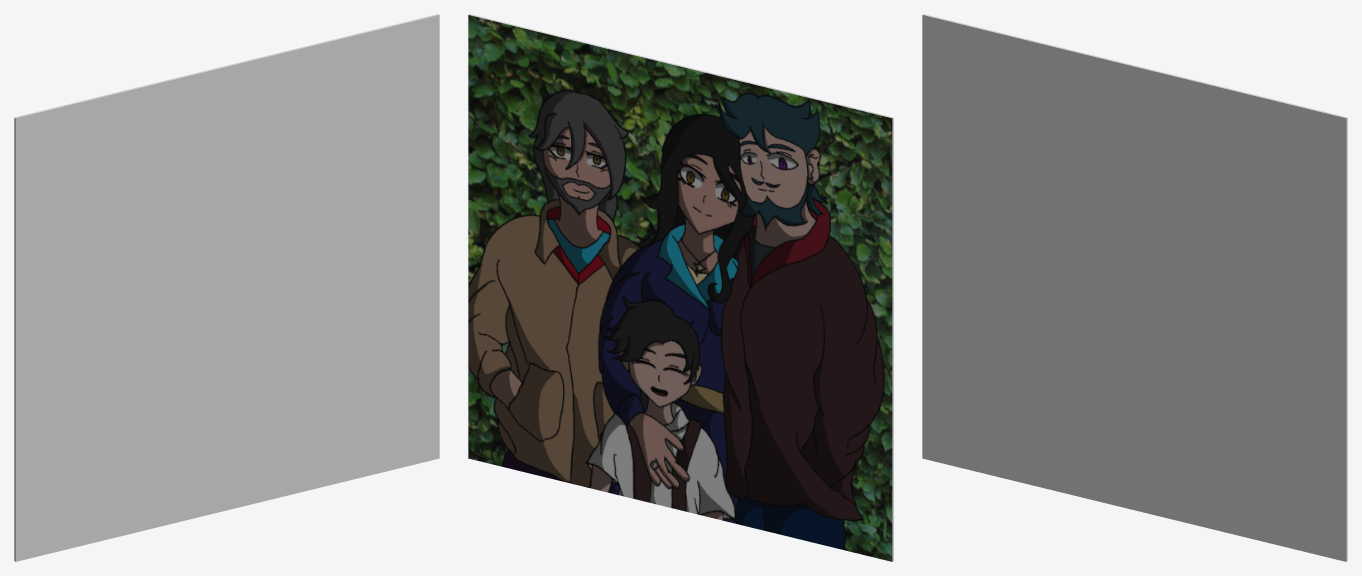
File: Family Photo.fbx
3 views of the same model, side by side, from view 1: azimuth 30°, elevation 25°; view 2: azimuth 150°, elevation 25°; view 3: azimuth 330°, elevation 25° (orthographic).
Parts seen in each view (by area): view 1: Main Piece, MIssing Piece; view 2: Main Piece, MIssing Piece; view 3: Main Piece, MIssing Piece.
Part boxes in pixels (x1=…): Main Piece: x1=14, y1=59, x2=329, y2=561; MIssing Piece: x1=253, y1=14, x2=439, y2=485; Main Piece: x1=578, y1=59, x2=893, y2=561; MIssing Piece: x1=468, y1=14, x2=653, y2=485; Main Piece: x1=922, y1=14, x2=1235, y2=534; MIssing Piece: x1=1161, y1=72, x2=1347, y2=561.
Size of the model in its own units: 200 by 200 by 1.04.
